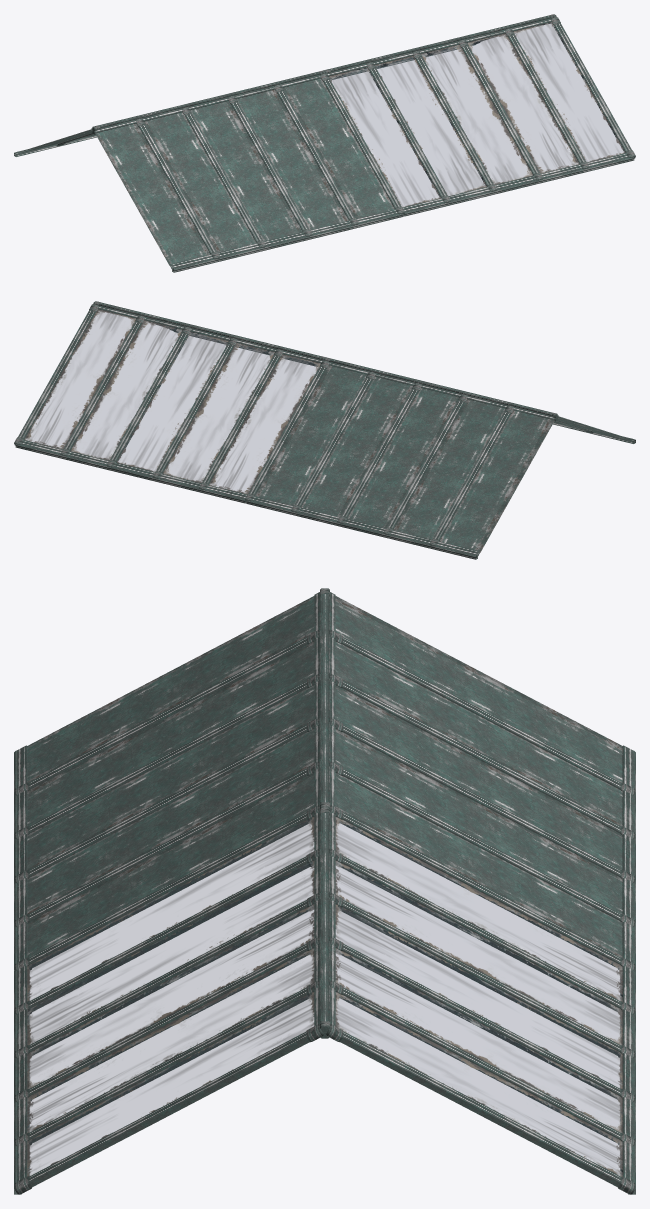
3 views of the same model, one above another, from view 1: azimuth 30°, elevation 25°; view 2: azimuth 150°, elevation 25°; view 3: azimuth 270°, elevation 25° (orthographic). The views are drawn at different scales.
Visible parts, largest first — view 1: ind_window_roof_01_inst_001, ind_window_roof_02_inst_001; view 2: ind_window_roof_01_inst_001, ind_window_roof_02_inst_001; view 3: ind_window_roof_02_inst_001, ind_window_roof_01_inst_001.
Boxes of the visible parts, x1,y1,x2,y2 form: ind_window_roof_01_inst_001: (14, 70, 404, 272); ind_window_roof_02_inst_001: (324, 14, 635, 216); ind_window_roof_01_inst_001: (245, 357, 635, 559); ind_window_roof_02_inst_001: (14, 301, 325, 503); ind_window_roof_02_inst_001: (14, 807, 635, 1194); ind_window_roof_01_inst_001: (14, 588, 635, 970).
Bounding box in the file's own units: 10.04 × 1.8 × 6.
3 materials, 3 textured.
